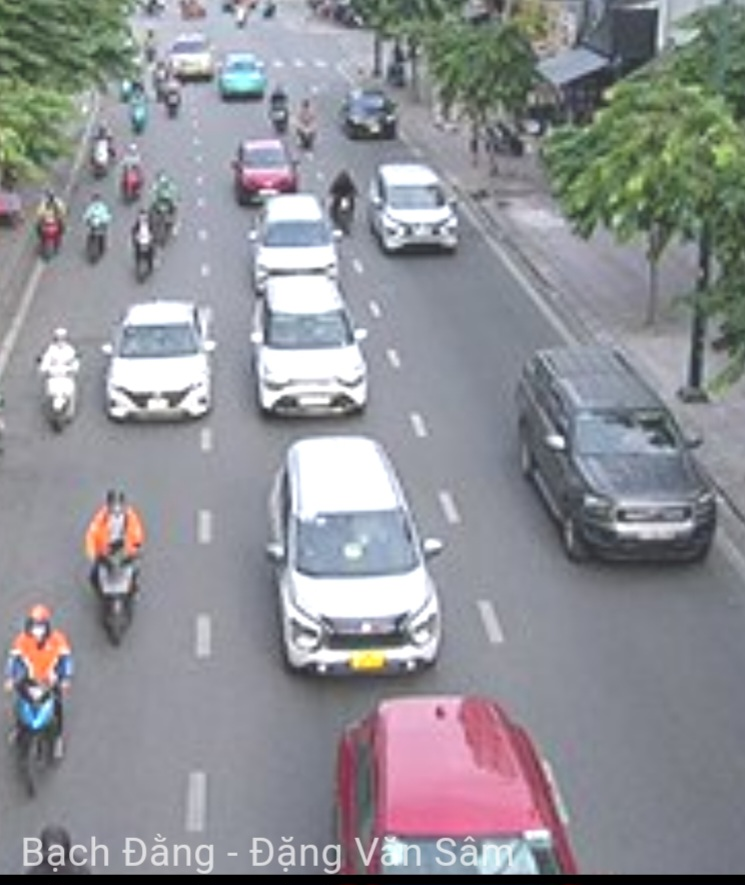car: (517, 347, 719, 571), (268, 435, 441, 679), (333, 697, 573, 871), (253, 281, 370, 416), (104, 298, 212, 419), (367, 163, 460, 255), (249, 197, 341, 286), (233, 139, 298, 205), (344, 87, 398, 141), (218, 55, 267, 102)
